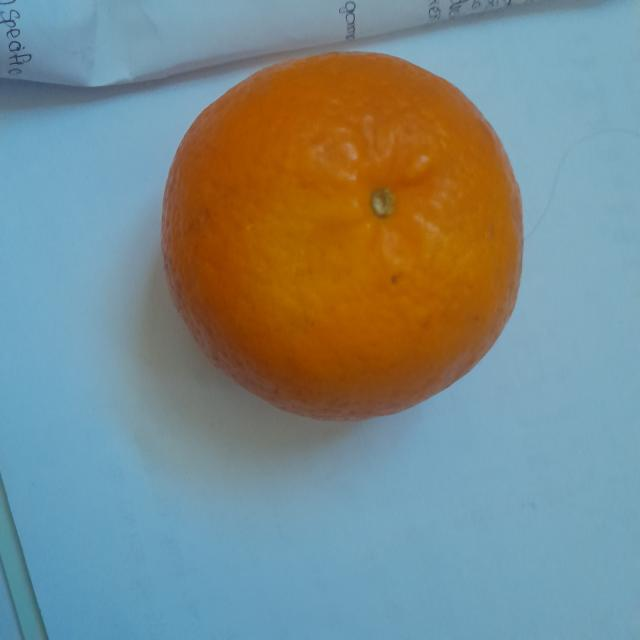Cam: (163, 49, 526, 430)
